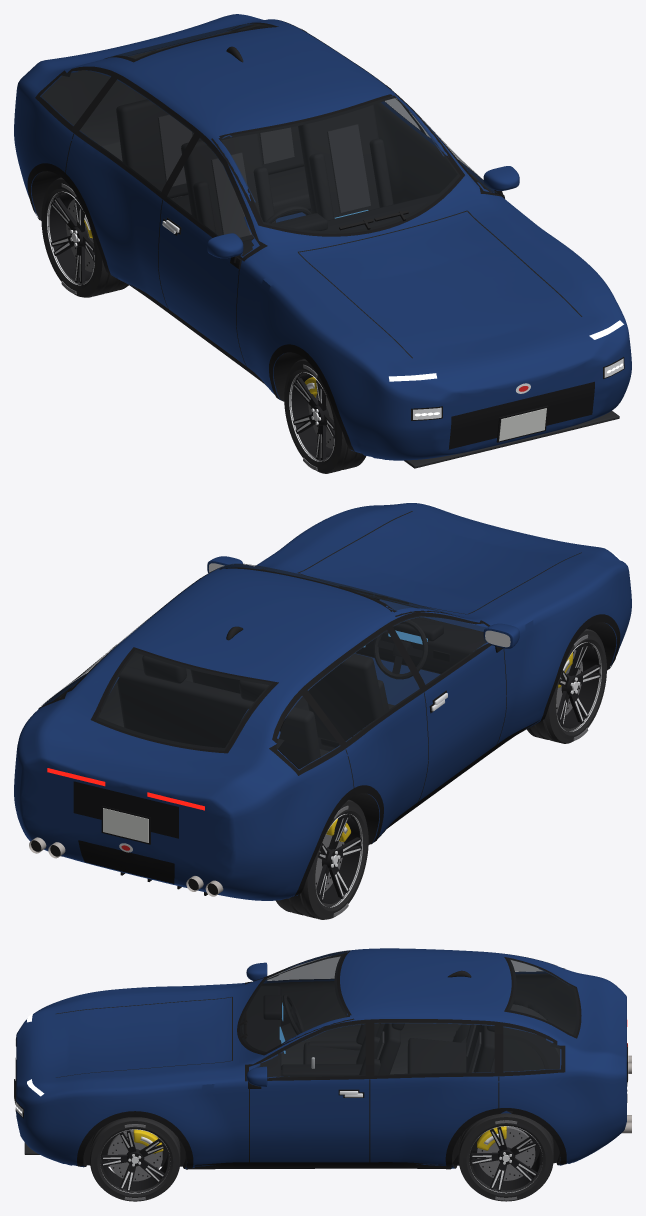
The model's file is purosangue.glb.
The picture shows the model from 3 angles, top to bottom: view 1: azimuth 30°, elevation 25°; view 2: azimuth 150°, elevation 25°; view 3: azimuth 270°, elevation 25°; orthographic projection. The views are drawn at different scales.
Visible parts, largest first — view 1: Body, Wheel_RR, Wheel_FR; view 2: Body, Wheel_RR, Wheel_FR; view 3: Body, Wheel_RL, Wheel_FL.
Boxes of the visible parts, left/top/right/bottom form: Body: left=14, top=14, right=631, bottom=468; Wheel_RR: left=41, top=177, right=128, bottom=297; Wheel_FR: left=284, top=359, right=366, bottom=473; Body: left=14, top=502, right=631, bottom=900; Wheel_RR: left=275, top=799, right=368, bottom=919; Wheel_FR: left=527, top=629, right=606, bottom=743; Body: left=14, top=948, right=631, bottom=1169; Wheel_RL: left=458, top=1113, right=553, bottom=1201; Wheel_FL: left=90, top=1117, right=180, bottom=1201.
Bounding box in the file's own units: 2.22 × 1.63 × 5.03.
